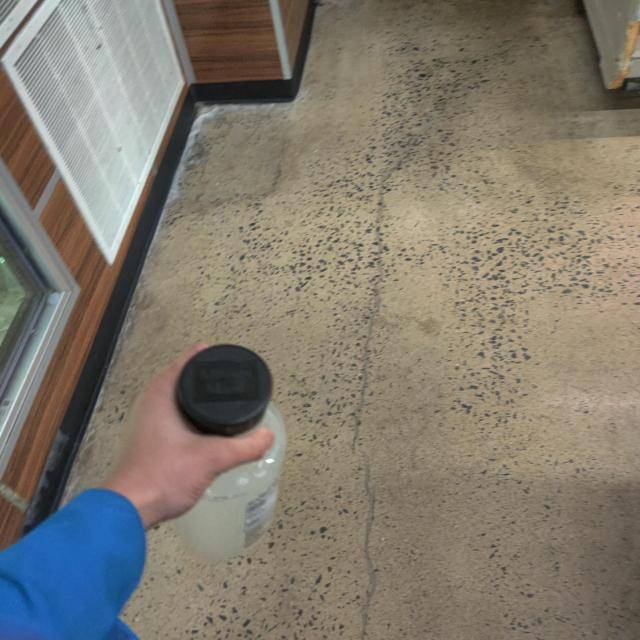Juice: (165, 330, 310, 564)
